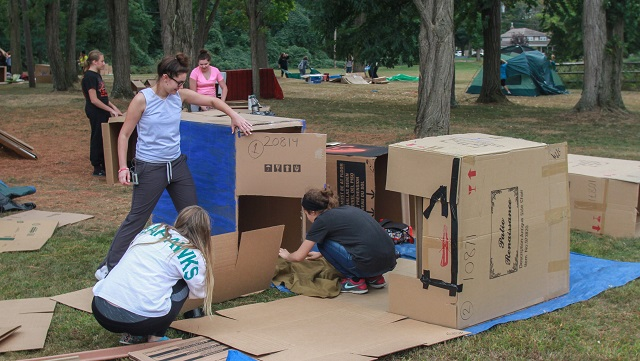box: (391, 132, 572, 322), (326, 141, 413, 226), (567, 153, 640, 240)
person: (117, 51, 251, 241), (92, 205, 213, 343), (278, 185, 399, 293), (83, 49, 117, 175), (189, 50, 231, 112), (277, 52, 289, 77), (299, 55, 309, 78)
tree: (581, 1, 627, 112), (417, 2, 454, 134), (46, 3, 79, 90), (110, 3, 134, 98), (481, 4, 502, 104), (162, 3, 191, 54)
